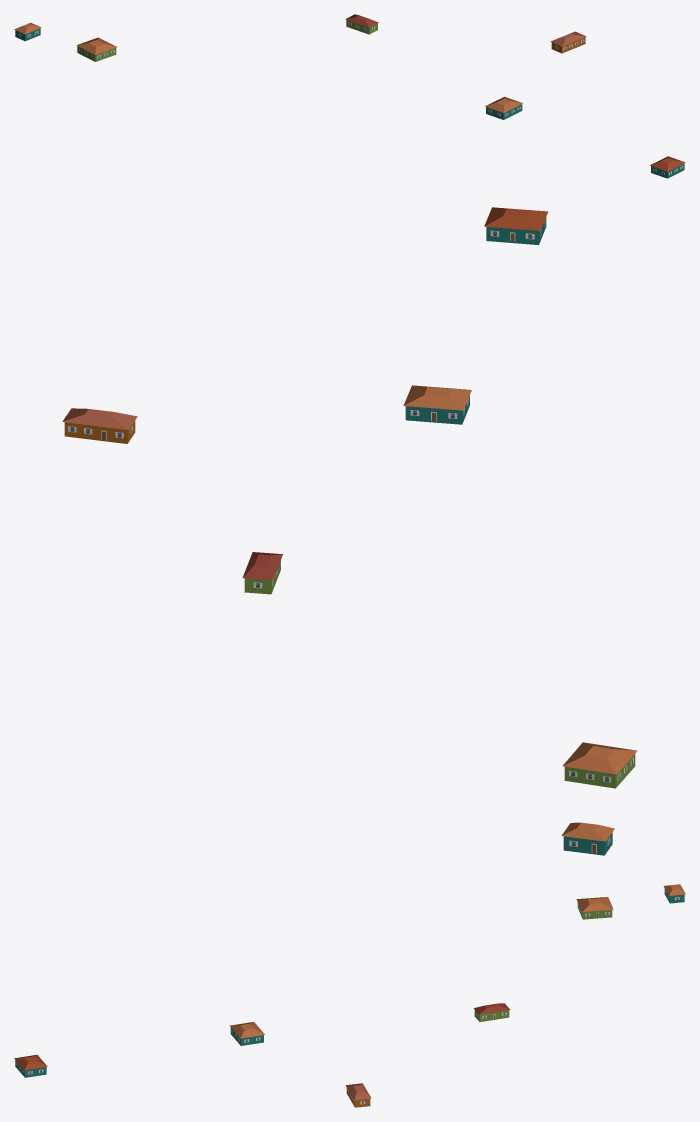
Rendered from msb_palmbeach_m21_m18.glb.
3 views of the same model, one above another, from view 1: azimuth 30°, elevation 25°; view 2: azimuth 150°, elevation 25°; view 3: azimuth 270°, elevation 25° (orthographic). The views are drawn at different scales.
Parts seen in each view (by area): view 1: msb_palmbeach_m21_m18_lod0; view 2: msb_palmbeach_m21_m18_lod0; view 3: msb_palmbeach_m21_m18_lod0.
Boxes of the visible parts, x1,y1,x2,y2 form: msb_palmbeach_m21_m18_lod0: [14, 14, 685, 178]; msb_palmbeach_m21_m18_lod0: [62, 207, 637, 855]; msb_palmbeach_m21_m18_lod0: [14, 884, 685, 1107].
Size of what is drawn, in the model's own units: 205 by 9.44 by 267.
Materials: 2 (1 with a texture image).
